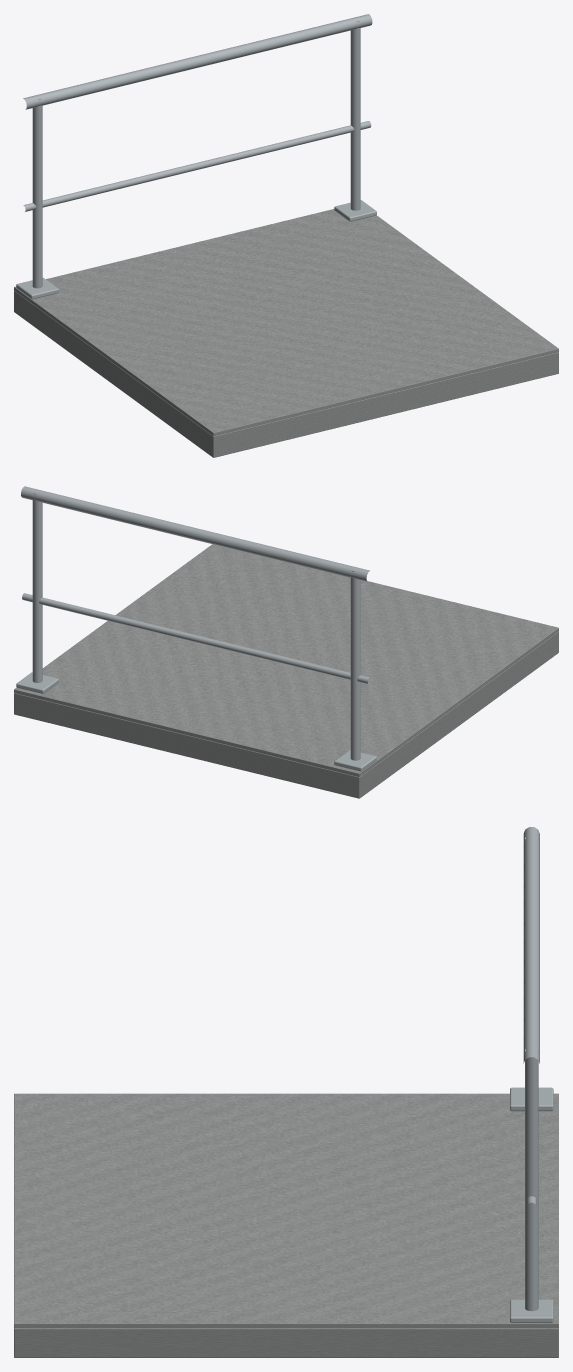
Rendered from liminal-spaces-kit-stairwell-landing-5e8db4ed__25290.glb.
3 views of the same model, one above another, from view 1: azimuth 30°, elevation 25°; view 2: azimuth 150°, elevation 25°; view 3: azimuth 270°, elevation 25° (orthographic). The views are drawn at different scales.
Visible parts, largest first — view 1: stairwell-landing; view 2: stairwell-landing; view 3: stairwell-landing.
Boxes of the visible parts, <box> form: stairwell-landing: <box>14,14,558,457</box>; stairwell-landing: <box>14,486,558,798</box>; stairwell-landing: <box>14,827,558,1357</box>.
Size of the model in its own units: 2 by 1.22 by 2.
Materials: 2 (1 with a texture image).
